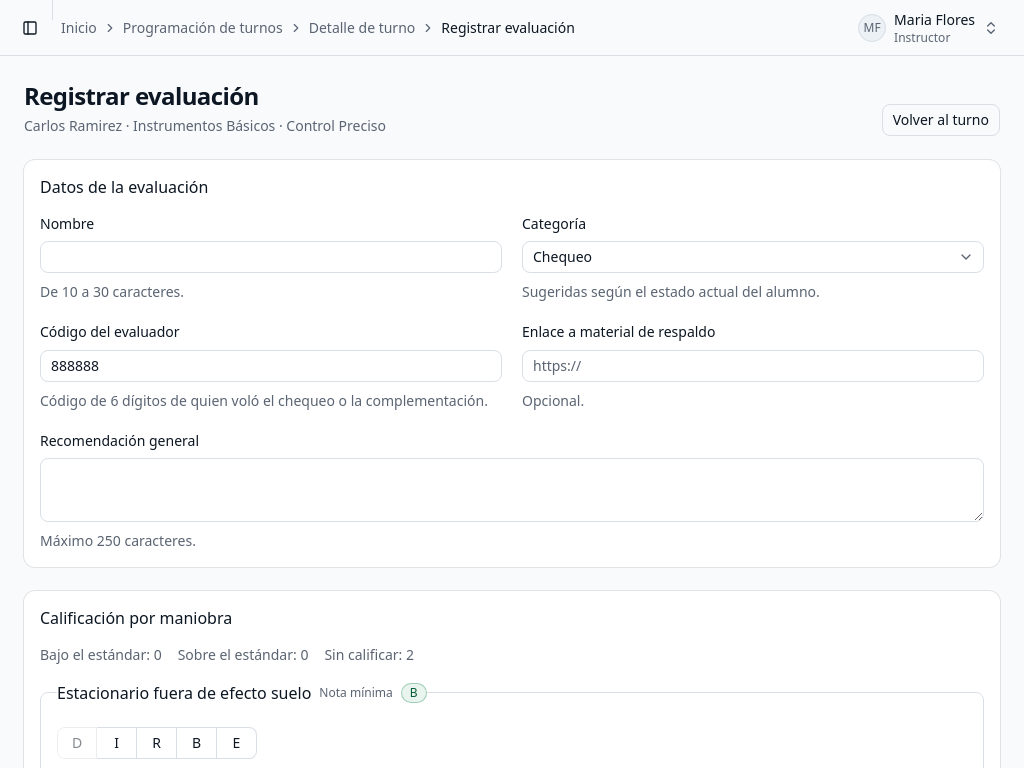
Test: Registrar evaluación › CA-EVA-11 un alumno en chequeo solo admite Chequeo y exige el código del evaluador
expect the heading "Registrar evaluación" is shown: met, box x1=24 y1=79 x2=259 y2=112
expect the heading "Calificación por maniobra" is shown: met, box x1=40 y1=607 x2=232 y2=629
Clear the field labelled "Código del evaluador". click: (271, 366)
box: x1=40 y1=350 x2=502 y2=382
(page scrolled)
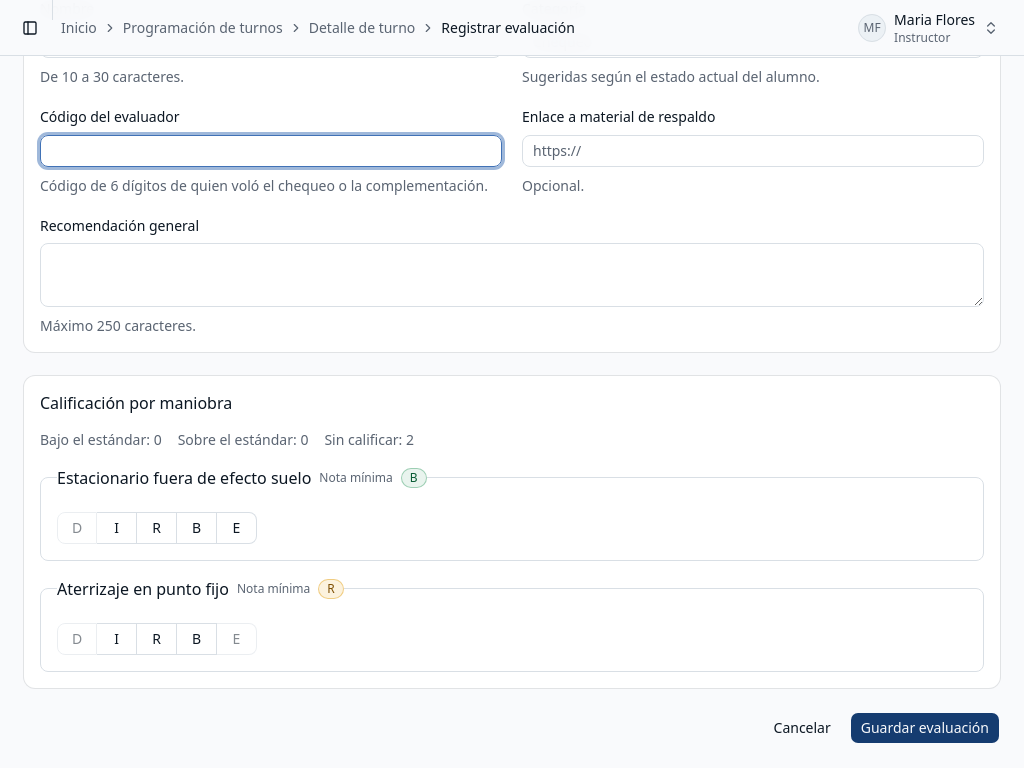
Click the button "Guardar evaluación". click: click(925, 728)
box: x1=850 y1=712 x2=1000 y2=744
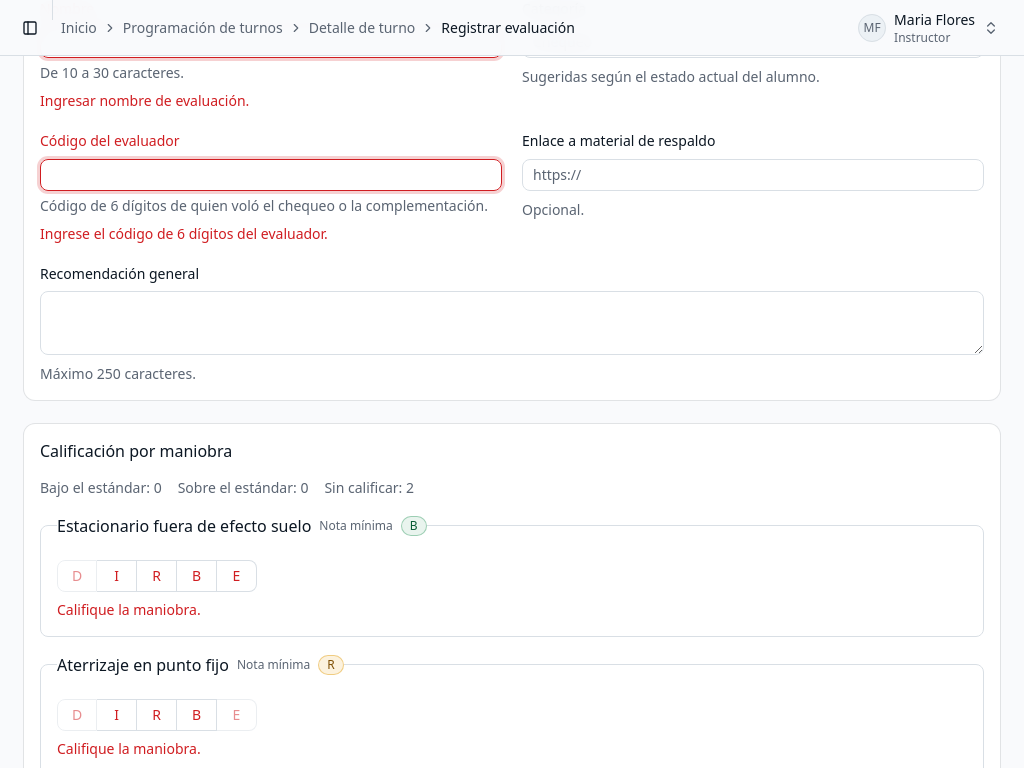
expect the text "Ingrese el código de 6 dígitos del evaluador." is shown: met, box x1=40 y1=224 x2=328 y2=242
